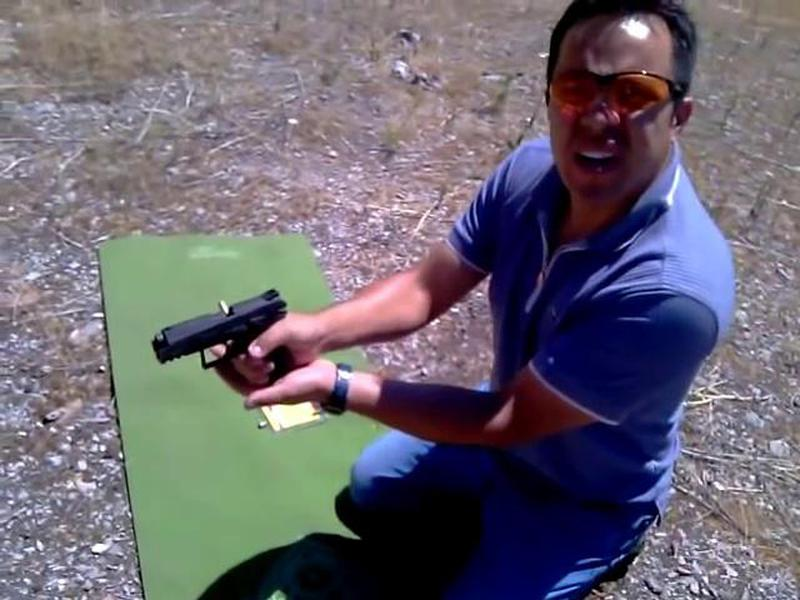Pistola: (141, 272, 330, 417)
